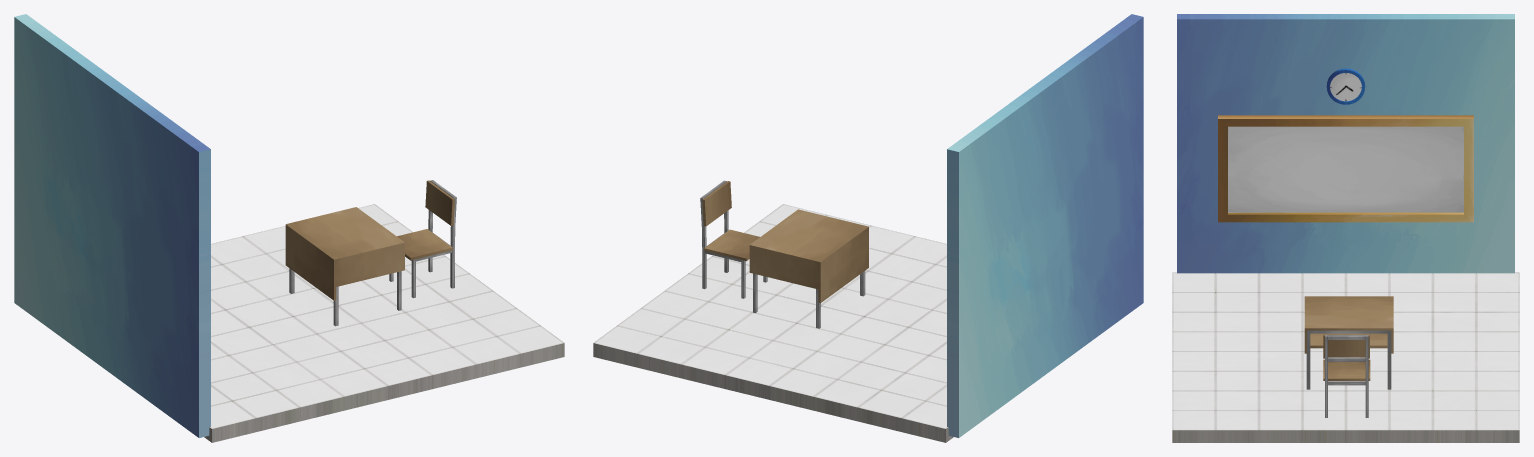
Rendered from sala_de_aula.glb.
The picture shows the model from 3 angles, left to right: view 1: azimuth 30°, elevation 25°; view 2: azimuth 150°, elevation 25°; view 3: azimuth 270°, elevation 25°; orthographic projection. The views are drawn at different scales.
Visible parts, largest first — view 1: dinding, lantai, meja, kursi; view 2: dinding, lantai, meja, kursi; view 3: dinding, lantai, papan tulis, meja, kursi, jam.
Part boxes in pixels (box(x1,y1,x2,y2)): dinding: box(14, 14, 210, 437); lantai: box(204, 204, 564, 442); meja: box(285, 207, 404, 326); kursi: box(389, 180, 456, 298); dinding: box(947, 14, 1143, 437); lantai: box(593, 204, 953, 442); meja: box(749, 209, 868, 328); kursi: box(700, 180, 767, 298); dinding: box(1177, 14, 1514, 273); lantai: box(1172, 272, 1519, 442); papan tulis: box(1218, 115, 1473, 222); meja: box(1304, 296, 1393, 389); kursi: box(1323, 334, 1370, 417); jam: box(1326, 68, 1365, 104).
Size of the model in its own units: 20 by 15.34 by 18.12.
6 materials, 6 textured.
